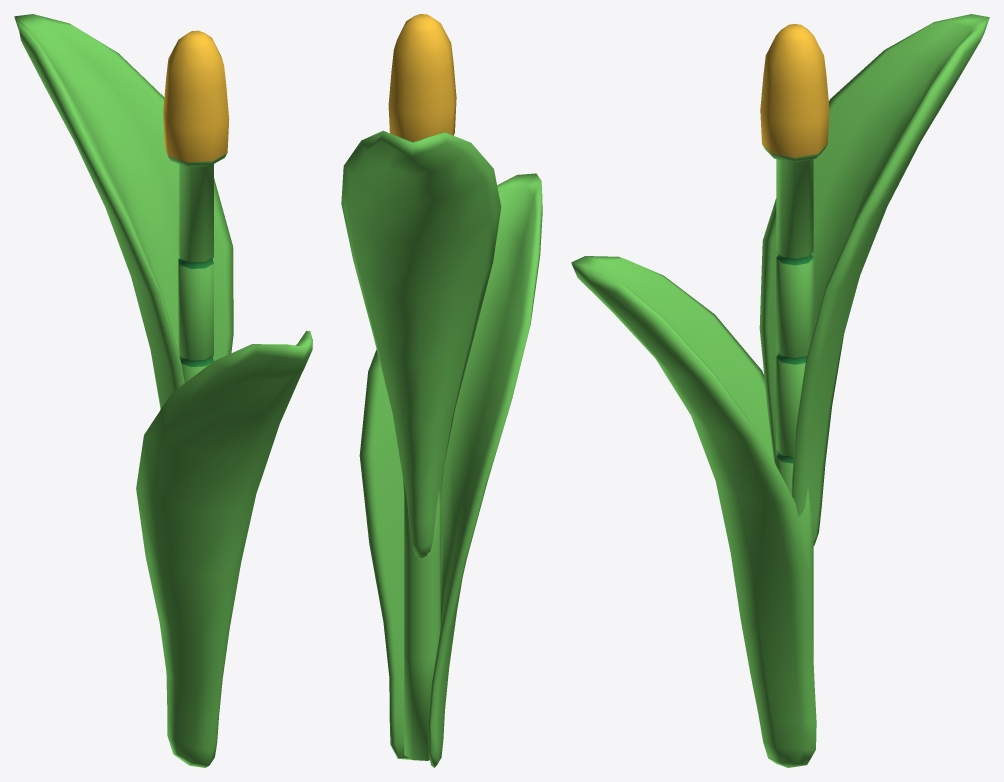
File: CornMiddle_single.fbx
3 views of the same model, side by side, from view 1: azimuth 30°, elevation 25°; view 2: azimuth 150°, elevation 25°; view 3: azimuth 270°, elevation 25° (orthographic). The views are drawn at different scales.
Visible parts, largest first — view 1: CornMiddle_single; view 2: CornMiddle_single; view 3: CornMiddle_single.
Boxes of the visible parts, x1,y1,x2,y2 form: CornMiddle_single: (14, 14, 312, 767); CornMiddle_single: (341, 14, 542, 767); CornMiddle_single: (571, 14, 989, 767).
Bounding box in the file's own units: 22.82 × 97.73 × 50.39.
